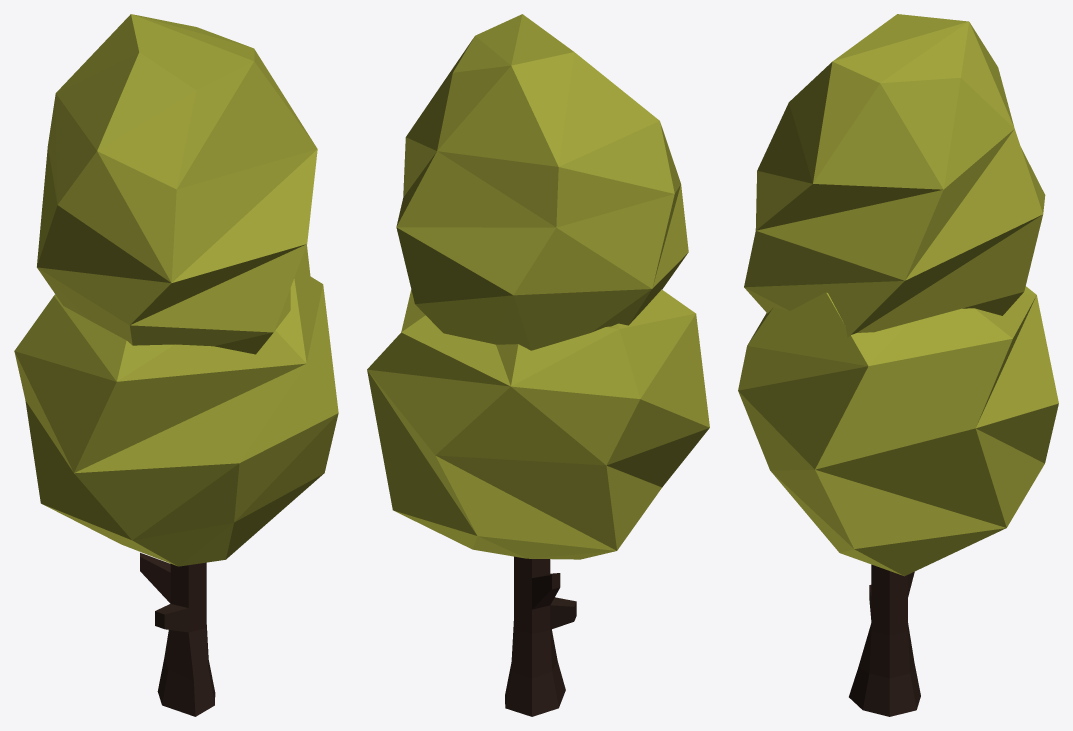
File: Tree15.fbx
3 views of the same model, side by side, from view 1: azimuth 30°, elevation 25°; view 2: azimuth 150°, elevation 25°; view 3: azimuth 270°, elevation 25° (orthographic).
Visible parts, largest first — view 1: TreeYellow01; view 2: TreeYellow01; view 3: TreeYellow01.
Boxes of the visible parts, x1=… form: TreeYellow01: x1=14, y1=14, x2=338, y2=716; TreeYellow01: x1=367, y1=14, x2=709, y2=716; TreeYellow01: x1=738, y1=14, x2=1058, y2=716.
Size of the model in its own units: 0.5738 by 1.35 by 0.5816.
